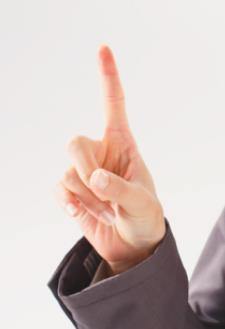up: (49, 44, 167, 249)
